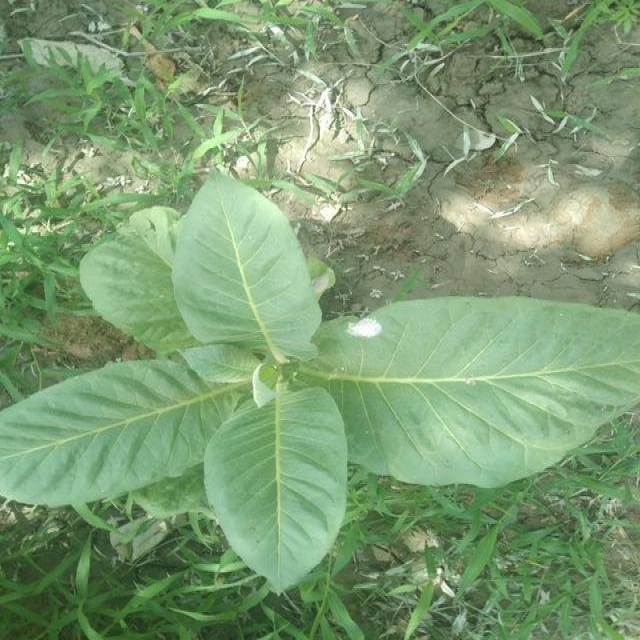crop: (0, 162, 640, 610)
